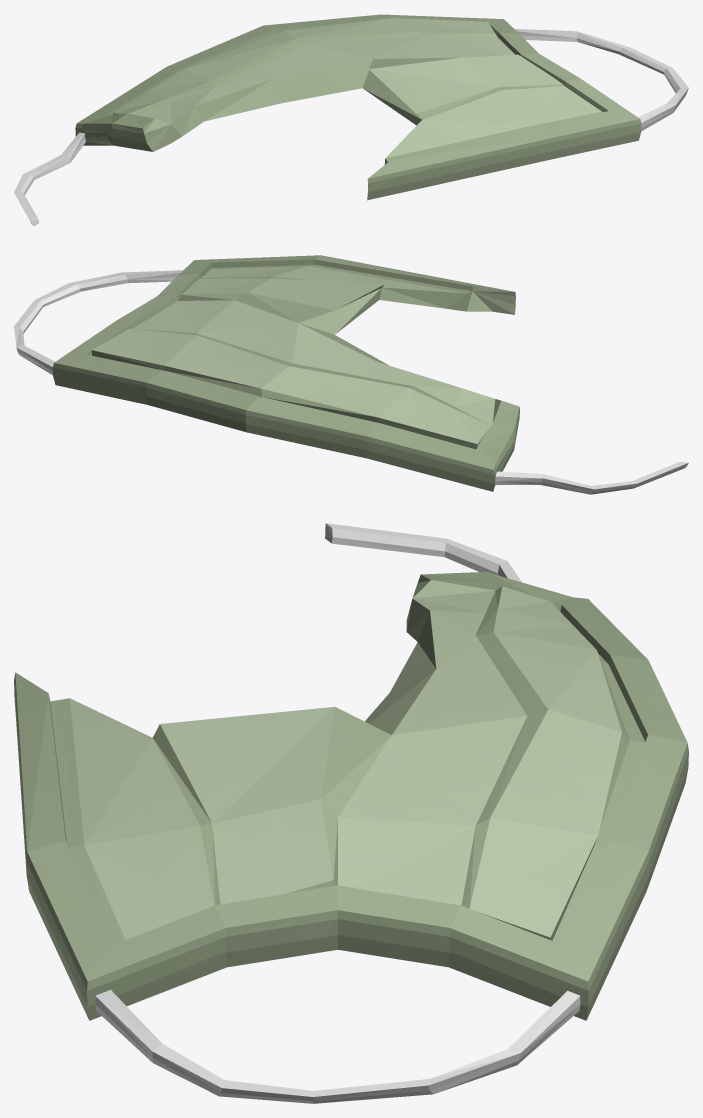
The model's file is face_mask_3.obj.
3 renders of one model, top to bottom at view 1: azimuth 30°, elevation 25°; view 2: azimuth 150°, elevation 25°; view 3: azimuth 270°, elevation 25°, orthographic. The views are drawn at different scales.
Visible parts, largest first — view 1: face_mask_3_Material; view 2: face_mask_3_Material; view 3: face_mask_3_Material.
Boxes of the visible parts, x1,y1,x2,y2 form: face_mask_3_Material: (14, 14, 688, 226); face_mask_3_Material: (14, 255, 688, 494); face_mask_3_Material: (14, 523, 688, 1103).
Bounding box in the file's own units: 0.2262 × 0.0247 × 0.1126.
